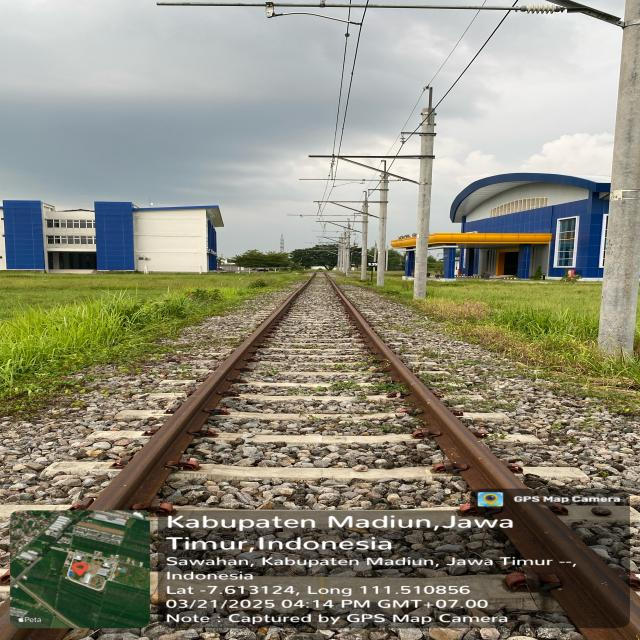rail-detection: (329, 280, 640, 640), (90, 281, 309, 510)
